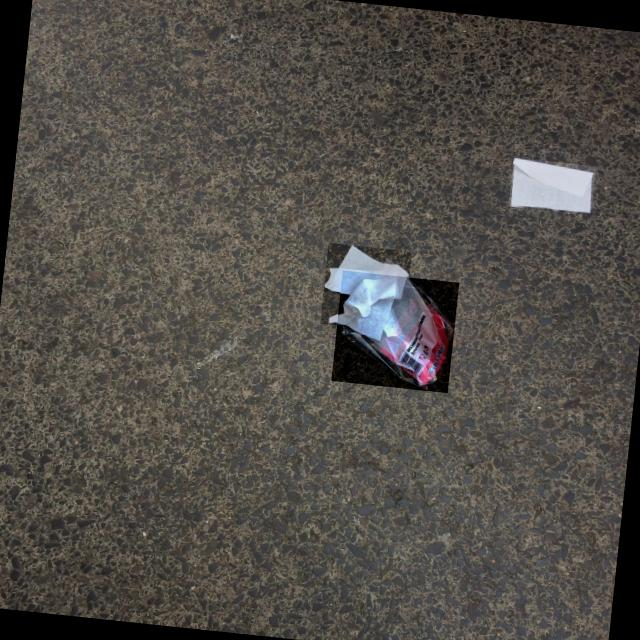Paper bag: (324, 245, 409, 324), (510, 158, 592, 214)
Plastic film: (336, 277, 452, 390)
